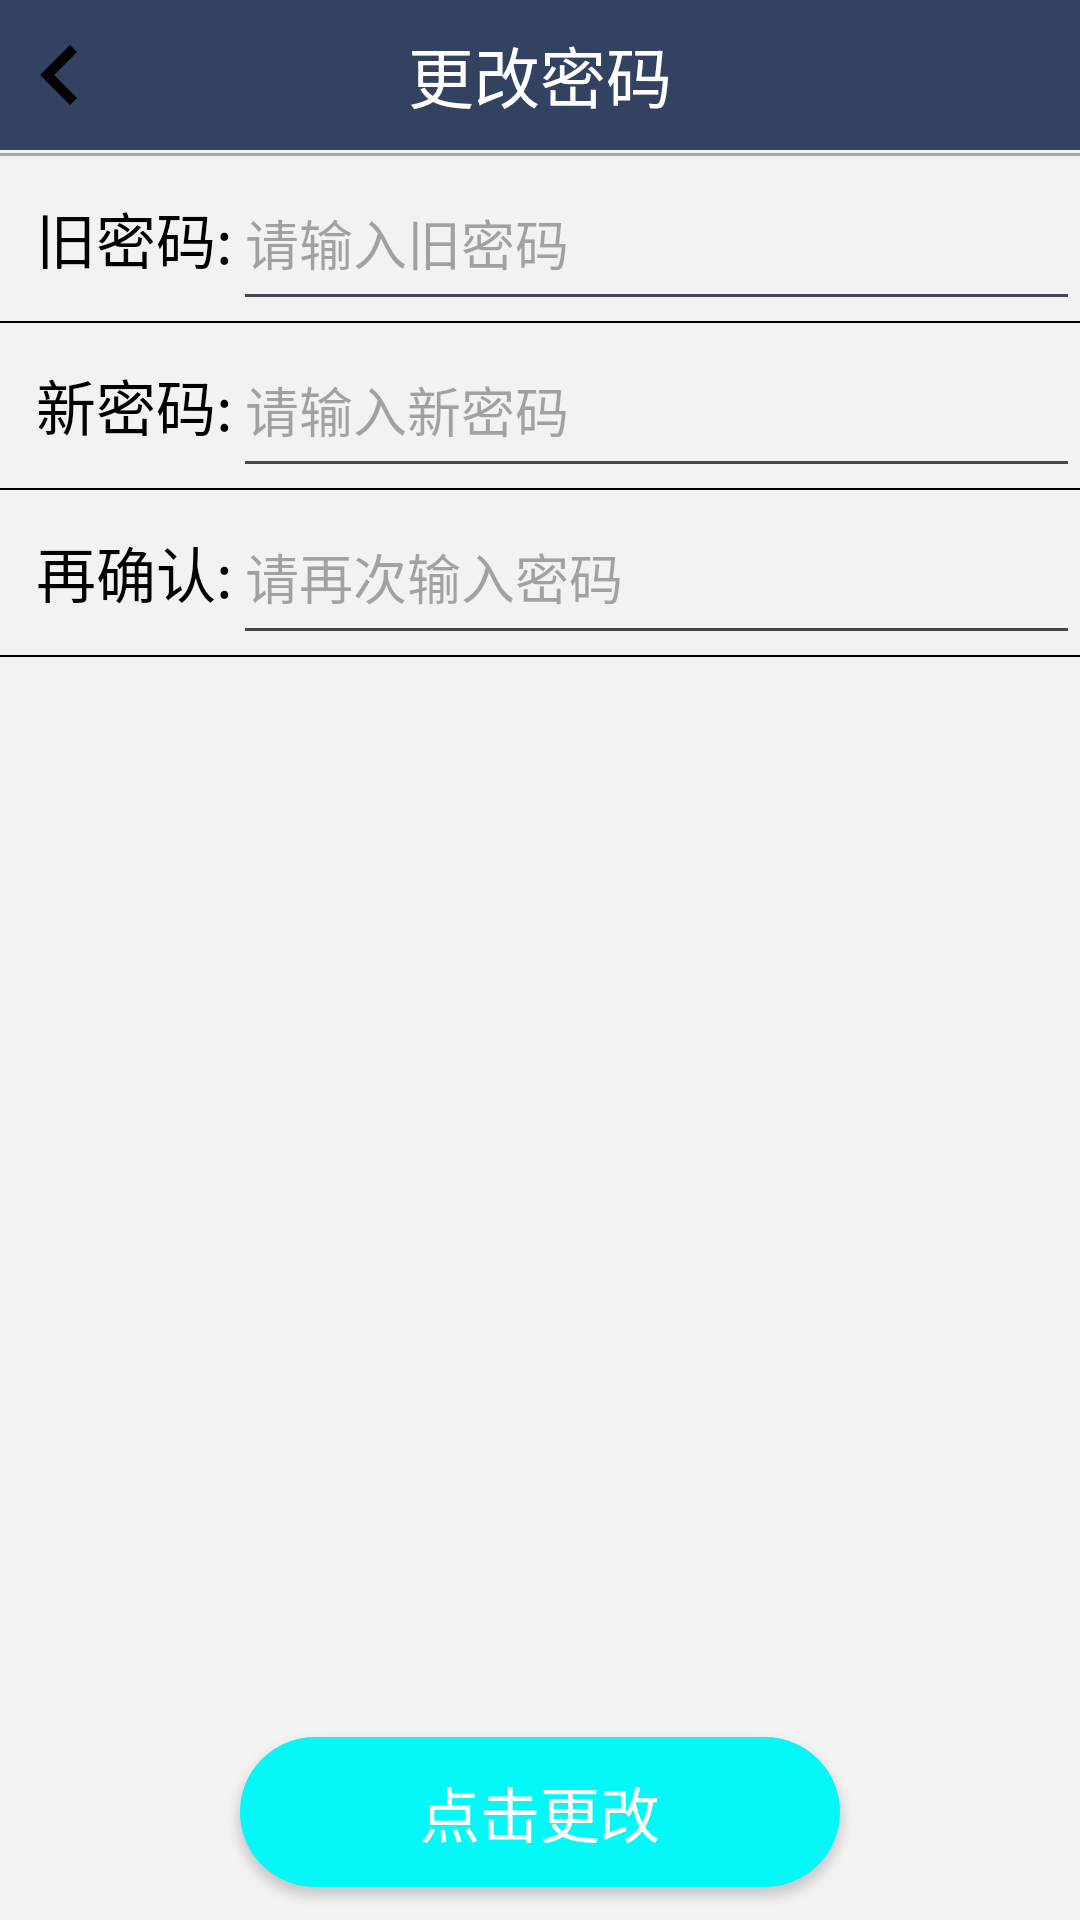

Icons on this 1080px x 1920px Android screen, each with the point to tap as [x,y]:
keyboard arrow left: [58,75]
